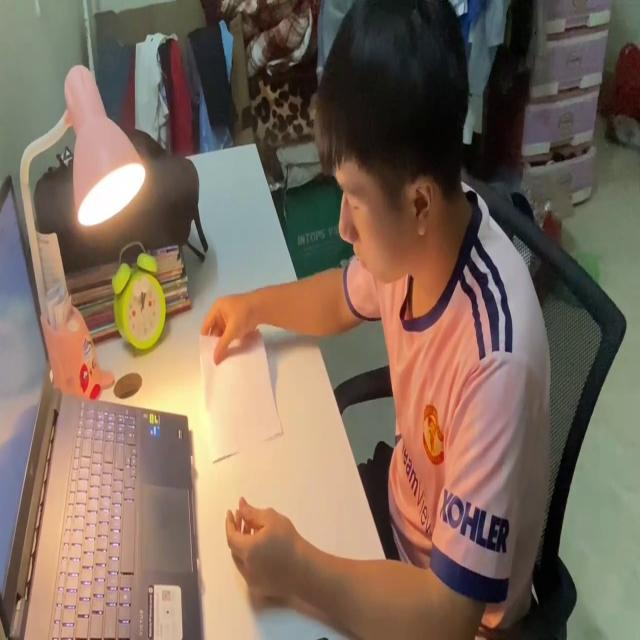book: (195, 307, 284, 462)
laptop: (0, 172, 201, 640)
student: (198, 0, 553, 640)
